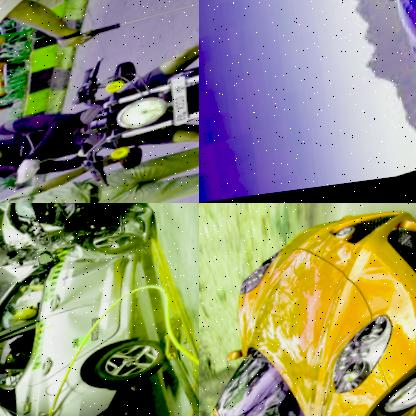bike: (69, 17, 199, 195)
car: (199, 203, 416, 416), (0, 216, 169, 416), (319, 0, 416, 113), (0, 203, 142, 272)
